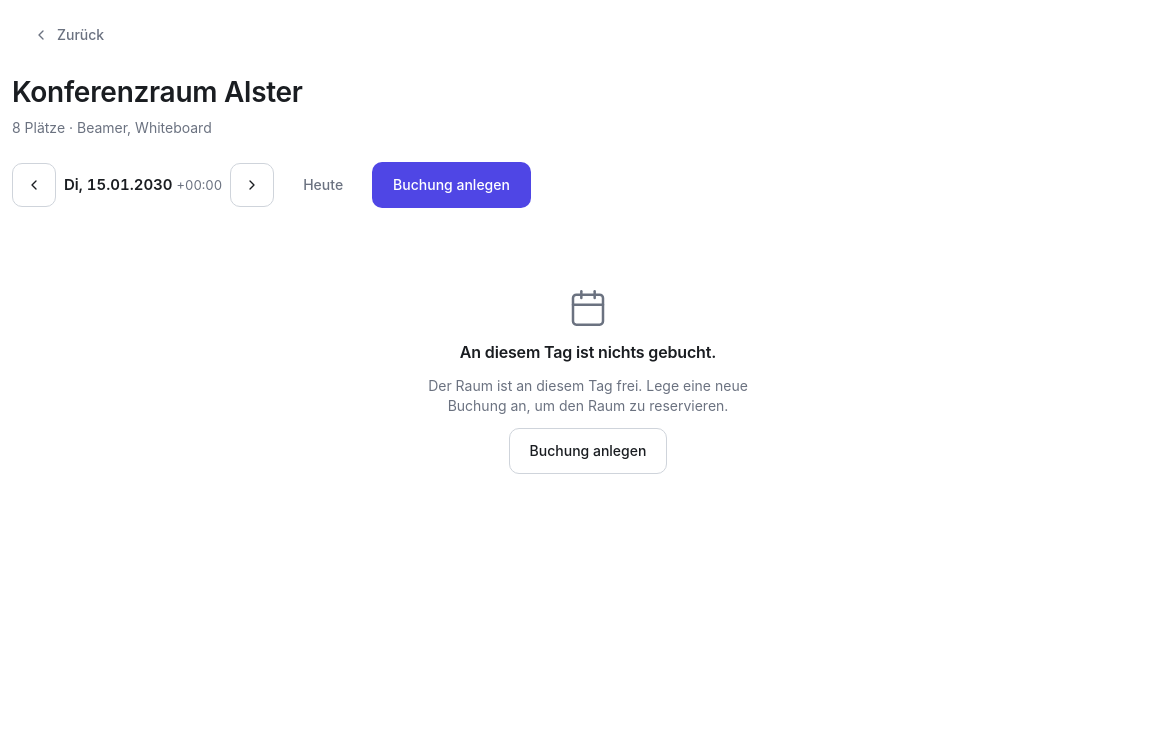
RoomDay booking form › rejects an end before the start and a duration over 8 hours
Expected: the heading "An diesem Tag ist nichts gebucht." is shown, [460,340,716,364]
Click the button "Buchung anlegen" in the row of "+00:00" at (452, 185), box [372,162,531,208]
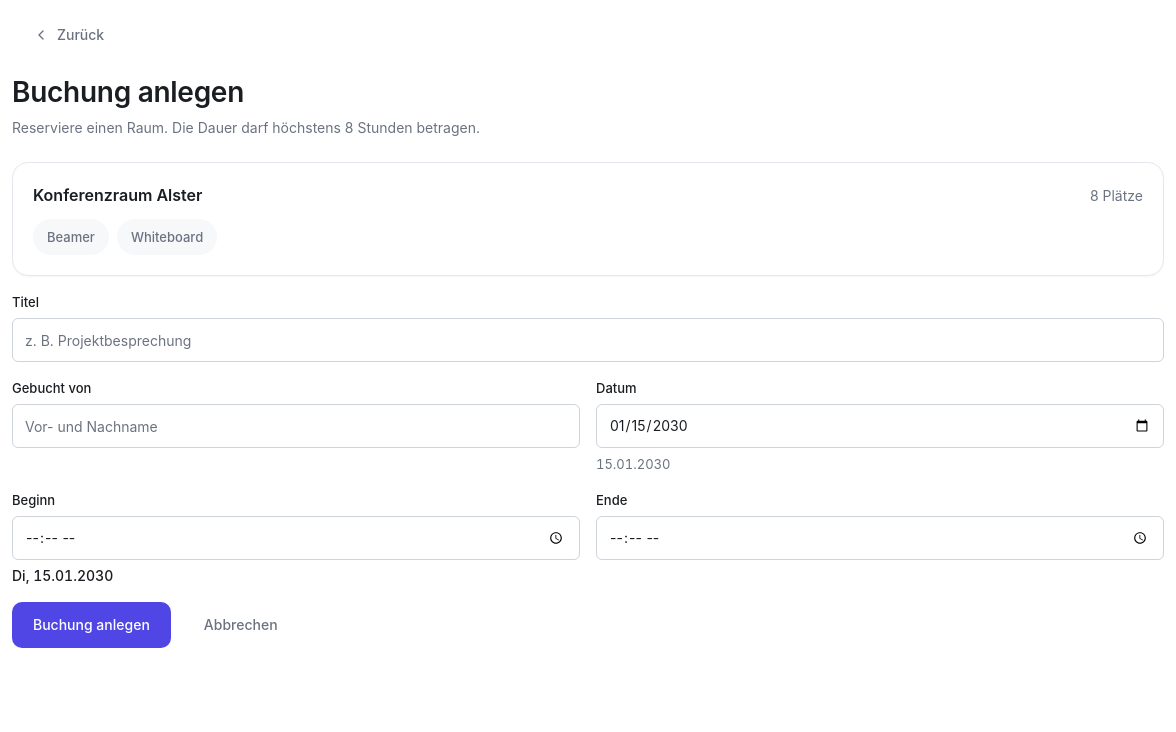
Expected: the heading "Buchung anlegen" is shown, [12,75,244,109]
Type "10:00" into the time field labelled "Beginn" at (296, 538), box [12,516,580,560]
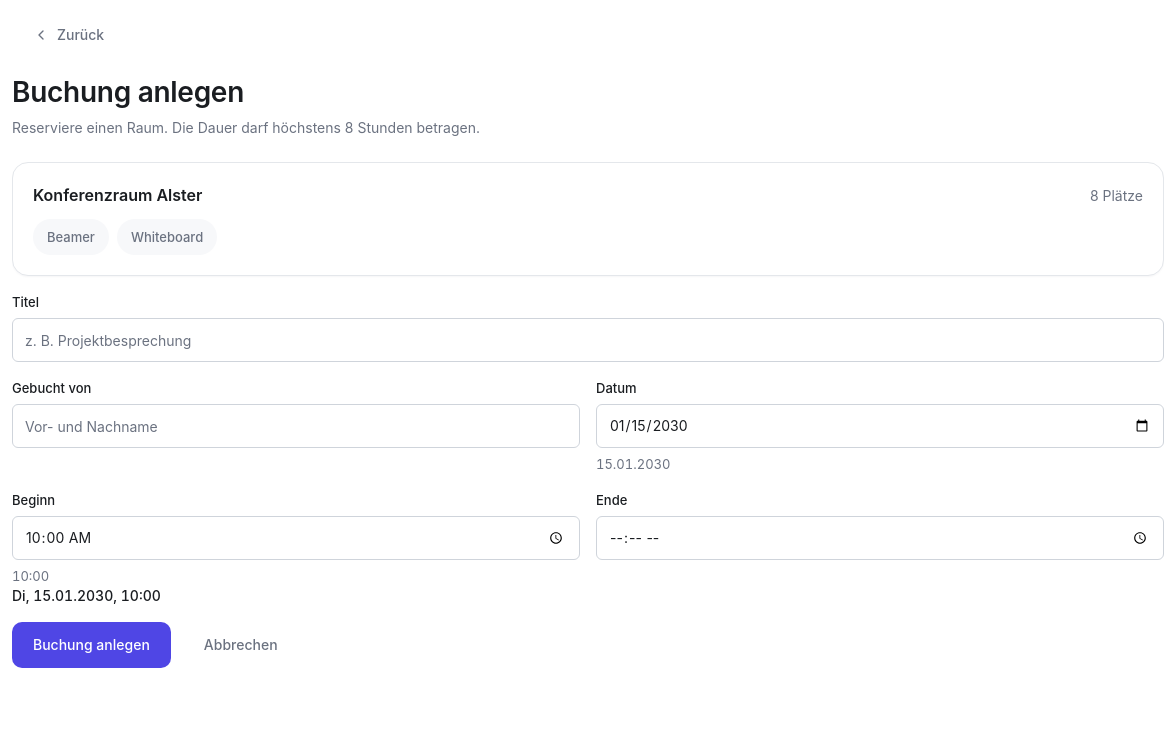
Type "09:00" into the time field labelled "Ende" at (880, 538), box [596,516,1164,560]
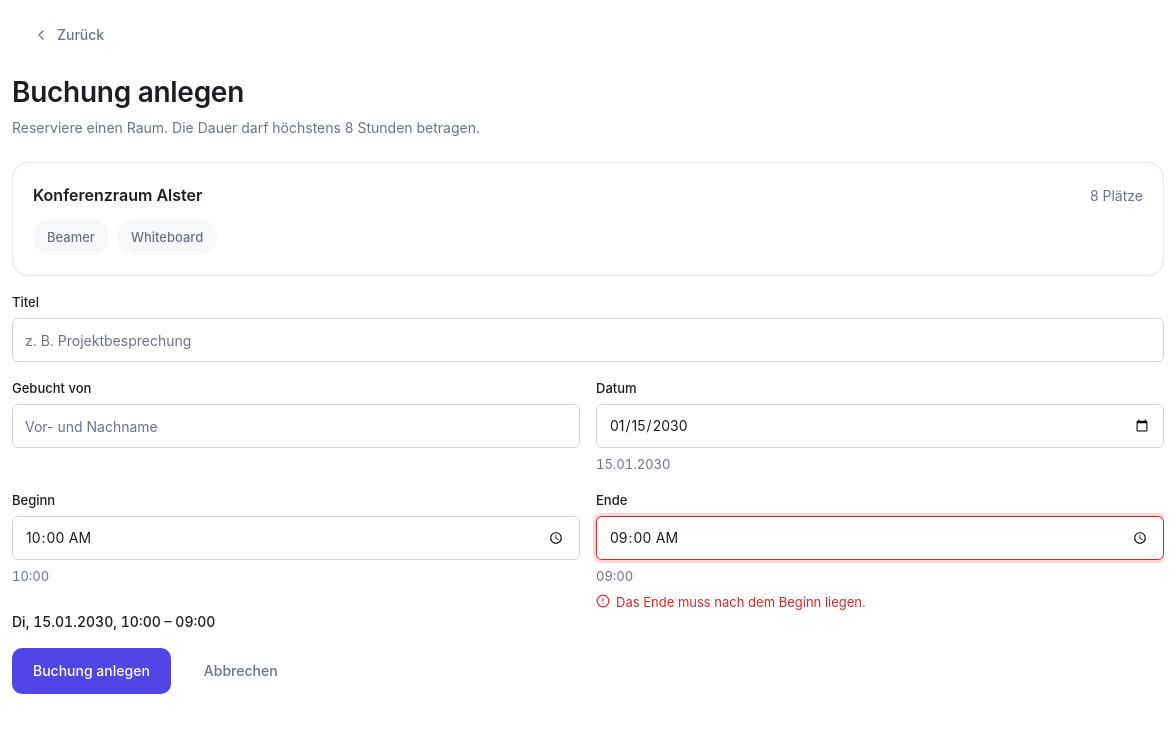
Expected: the text "Das Ende muss nach dem Beginn liegen." is shown, [616,592,866,612]
Replace the text in the time field labelled "Ende" with "19:00" at (880, 538), box [596,516,1164,560]
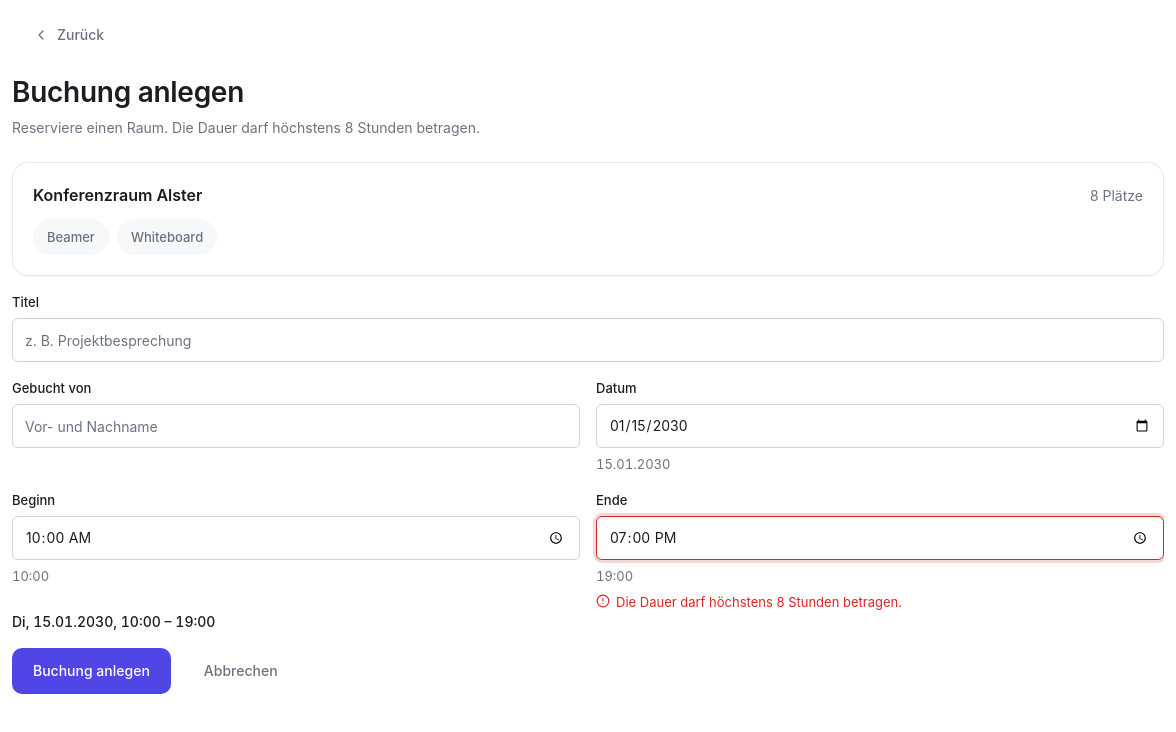
Expected: the text "Die Dauer darf höchstens 8 Stunden betragen." is shown, [616,592,902,612]
